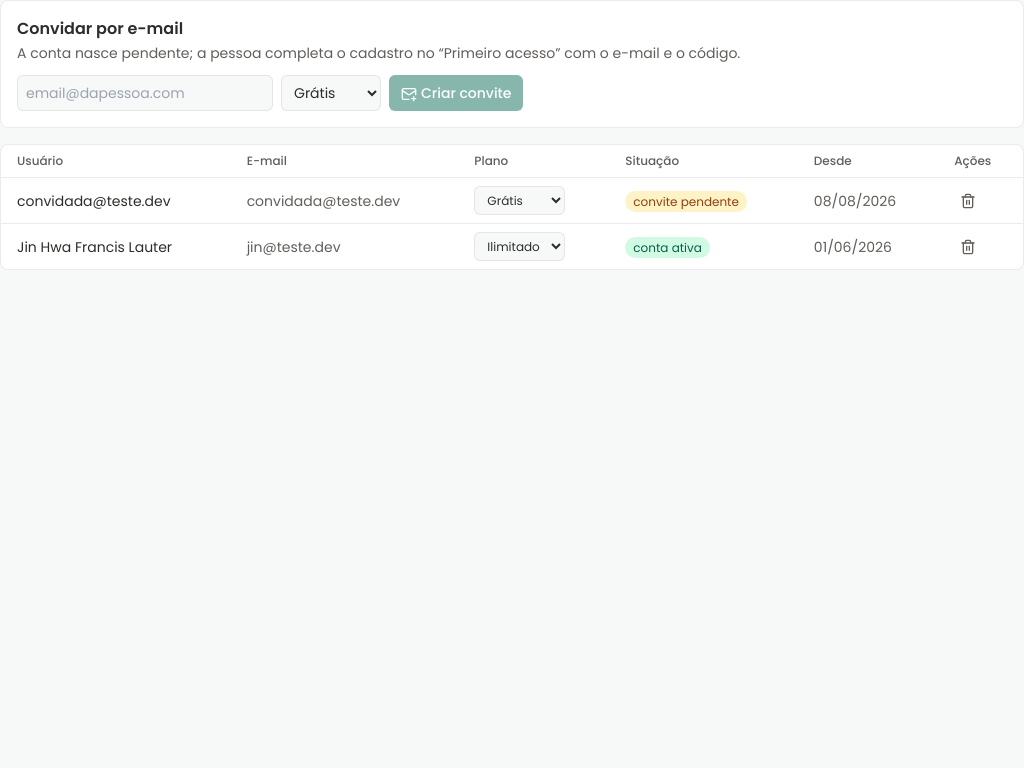
Test: UsersAdminView — exclusão de conta › abrir a confirmação não exclui nada e o "Sim" nasce travado pelo contador
What coordinates should you click on to do the following:
click the button named "Excluir conta jin@teste.dev"
I would click on:
 (968, 246)
Its box is [954,232,982,260].
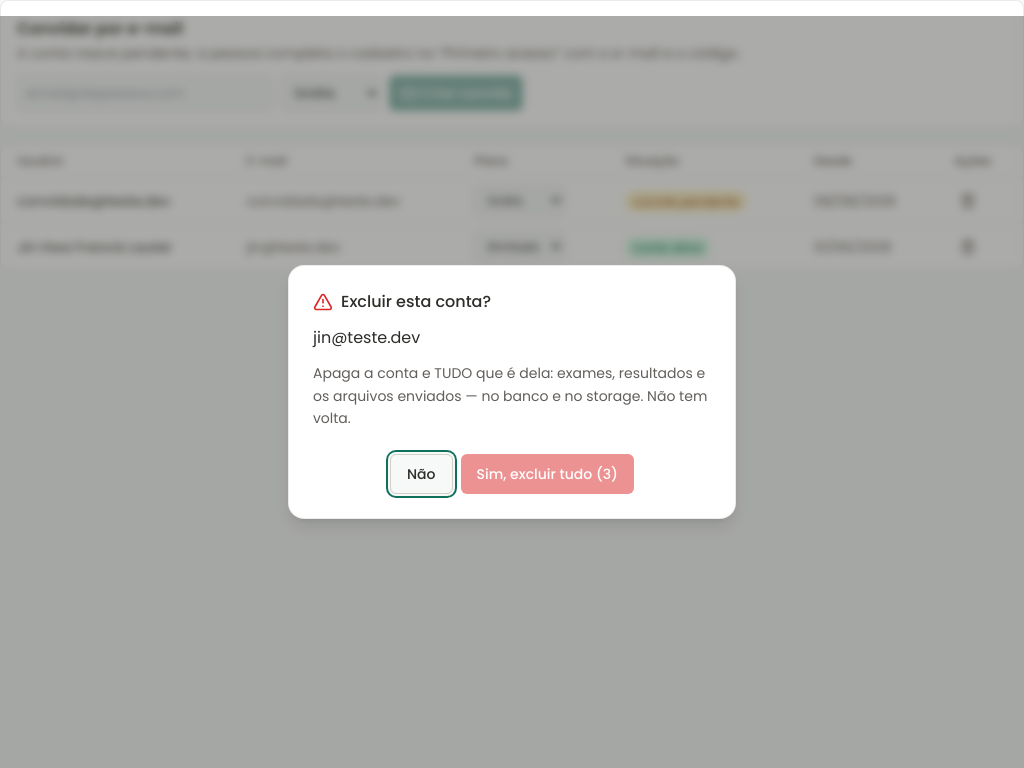
Result: the heading "Excluir esta conta?" is shown at [313,290,491,313]
Result: the text "TUDO que é dela" is shown at [313,363,707,428]
Result: the button "Sim, excluir tudo (3)" is disabled at [460,454,634,494]
